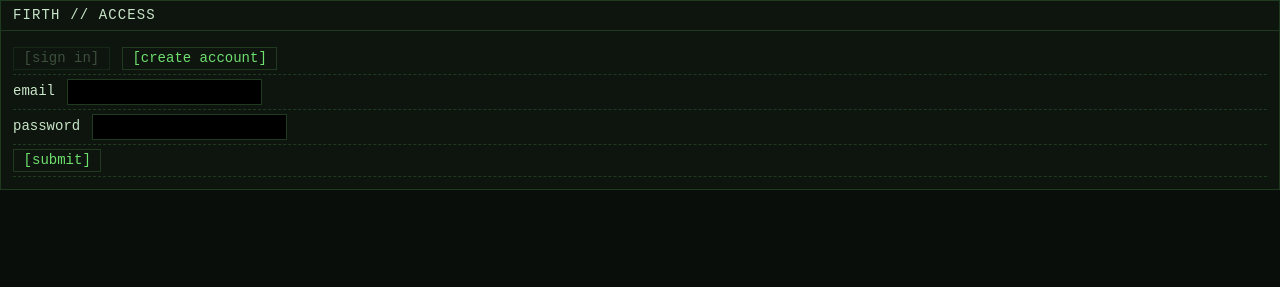
Test: AuthScreen › sign-up needing verification also offers the resend button
Click the button "[create account]". click: (200, 58)
box: left=122, top=47, right=277, bottom=70
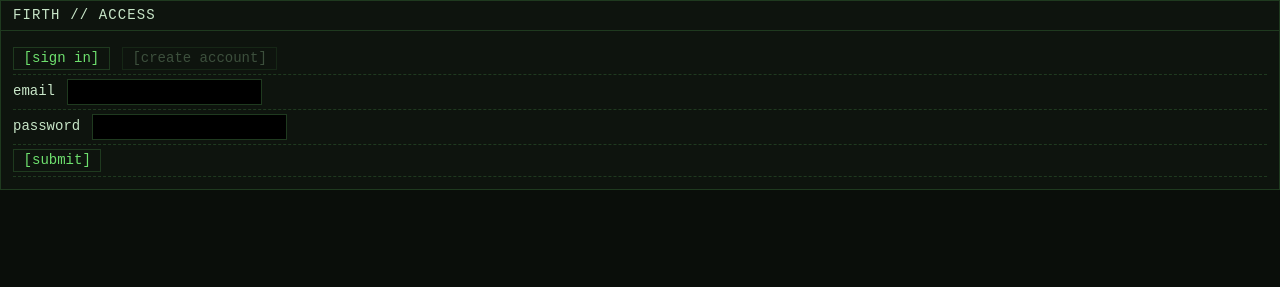
Type "a@b.co" into the field labelled "email". click: (164, 92)
box: left=67, top=79, right=262, bottom=105
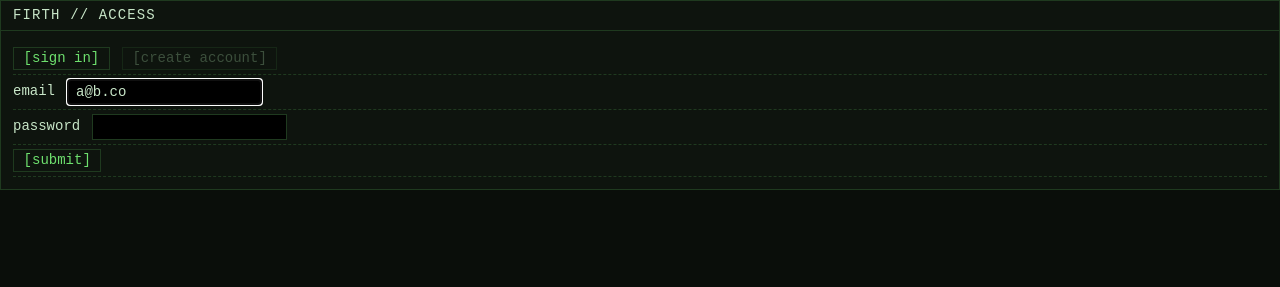
Type "pw" into the password field labelled "password". click: (190, 127)
box: left=92, top=114, right=287, bottom=140
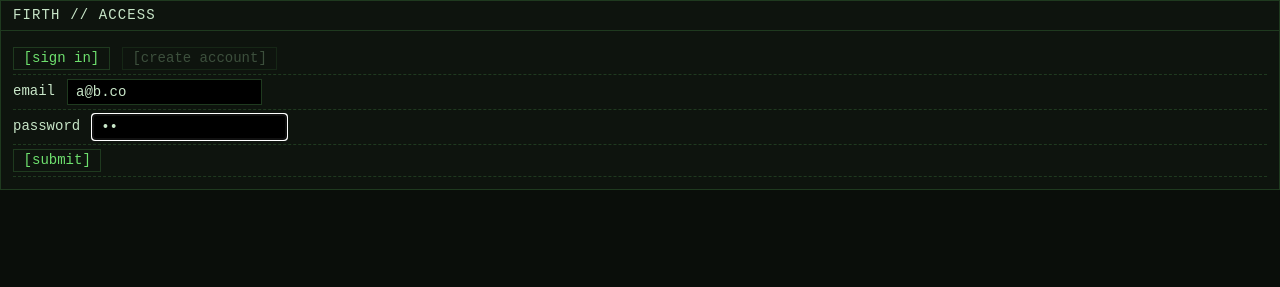
Click the button with test id "auth-submit". click: (57, 160)
box: left=13, top=149, right=101, bottom=172
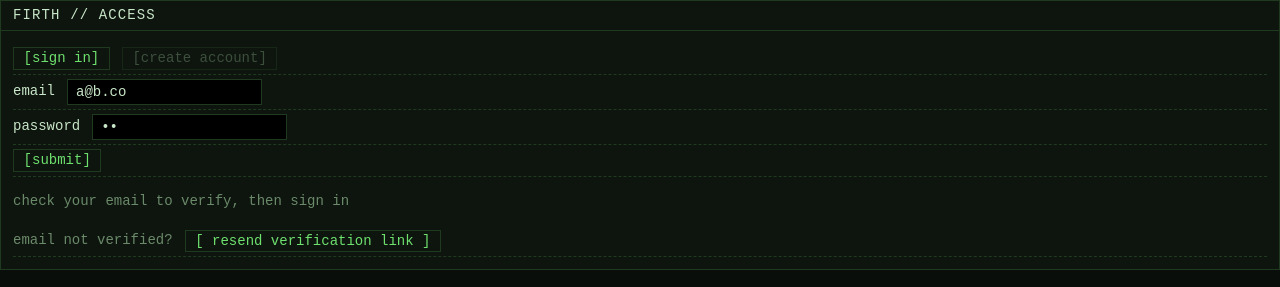
Check: the button with test id "resend-verification" is shown, box left=185, top=230, right=441, bottom=252
